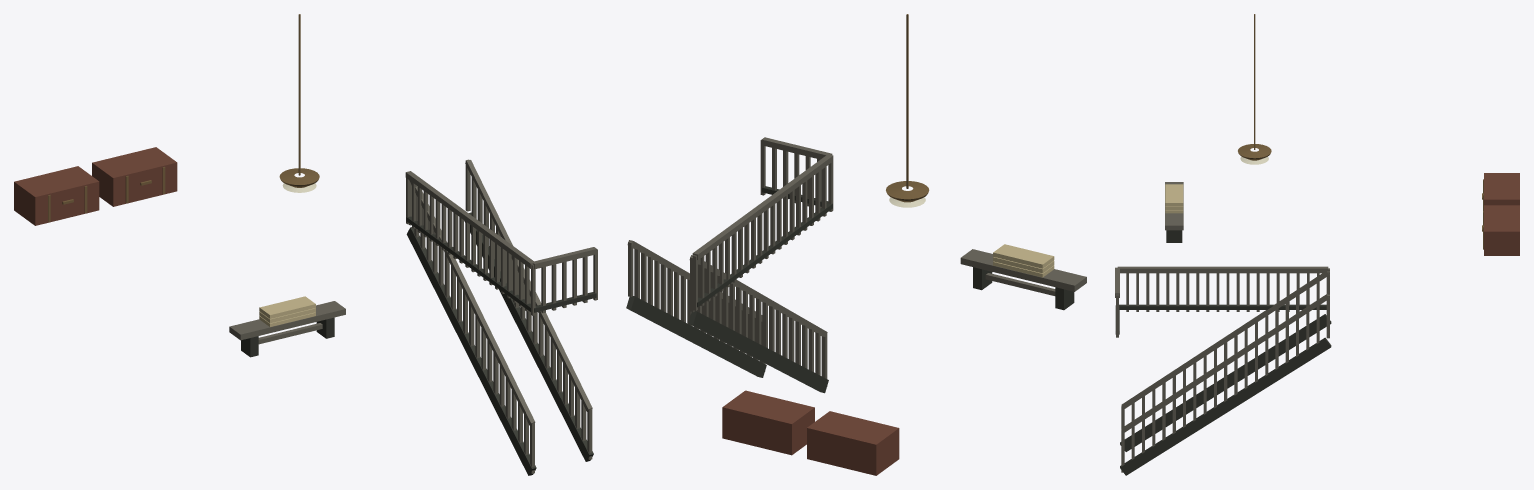
File: upstairs_lodge.glb
The picture shows the model from 3 angles, left to right: view 1: azimuth 30°, elevation 25°; view 2: azimuth 150°, elevation 25°; view 3: azimuth 270°, elevation 25°; orthographic projection. The views are drawn at different scales.
Parts seen in each view (by area): view 1: upstairs_lodge; view 2: upstairs_lodge; view 3: upstairs_lodge.
Part boxes in pixels (bbox=[...]): upstairs_lodge: bbox=[14, 14, 597, 475]; upstairs_lodge: bbox=[626, 14, 1086, 475]; upstairs_lodge: bbox=[1115, 14, 1519, 475].
Size of the model in its own units: 7.51 by 9.23 by 9.06.
